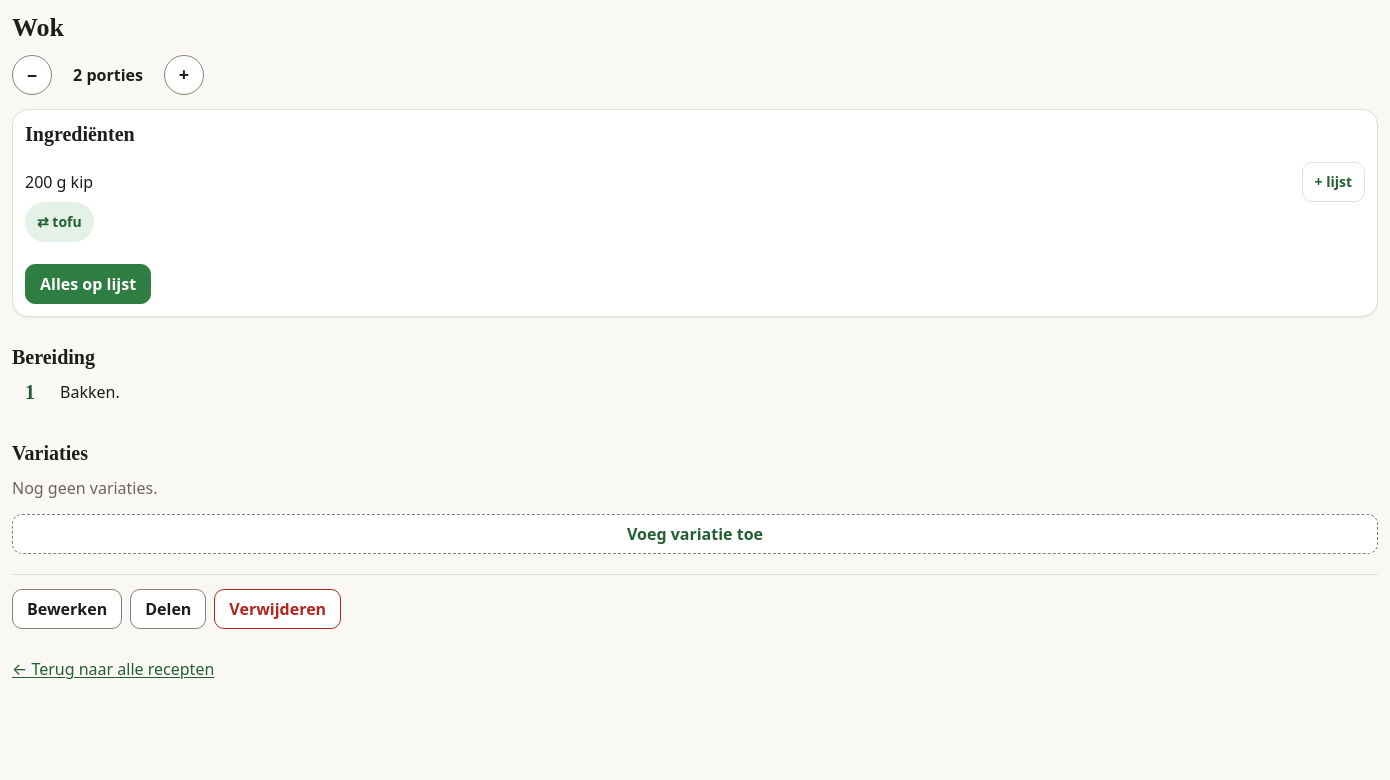
RecipeDetailView: delen › kopieert naar het klembord als er geen deelmenu is
The width and height of the screenshot is (1390, 780).
Click the button with class "share". click: (168, 609)
box: left=130, top=589, right=206, bottom=629
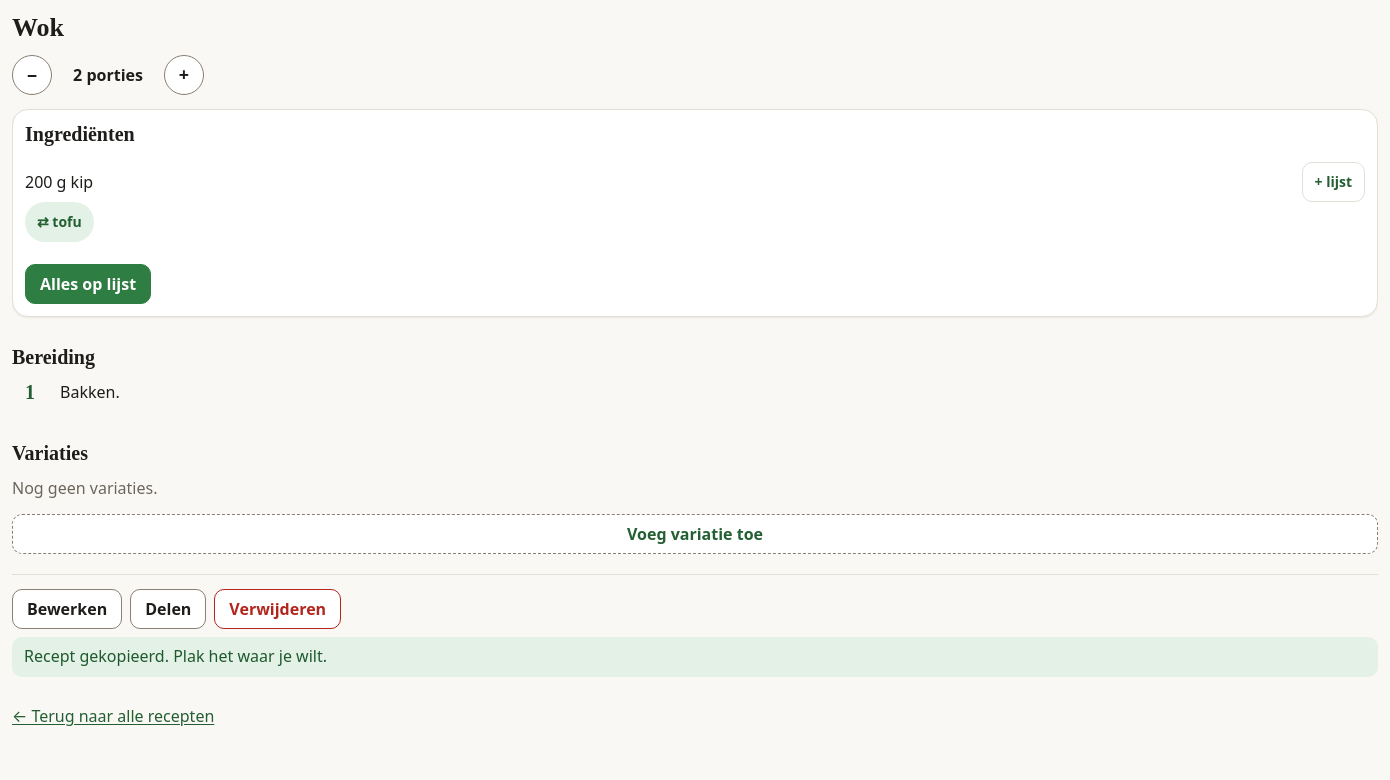
Expected: the message with class "share-message" reads "Recept gekopieerd. Plak het waar je wilt.", left=24, top=645, right=327, bottom=667
